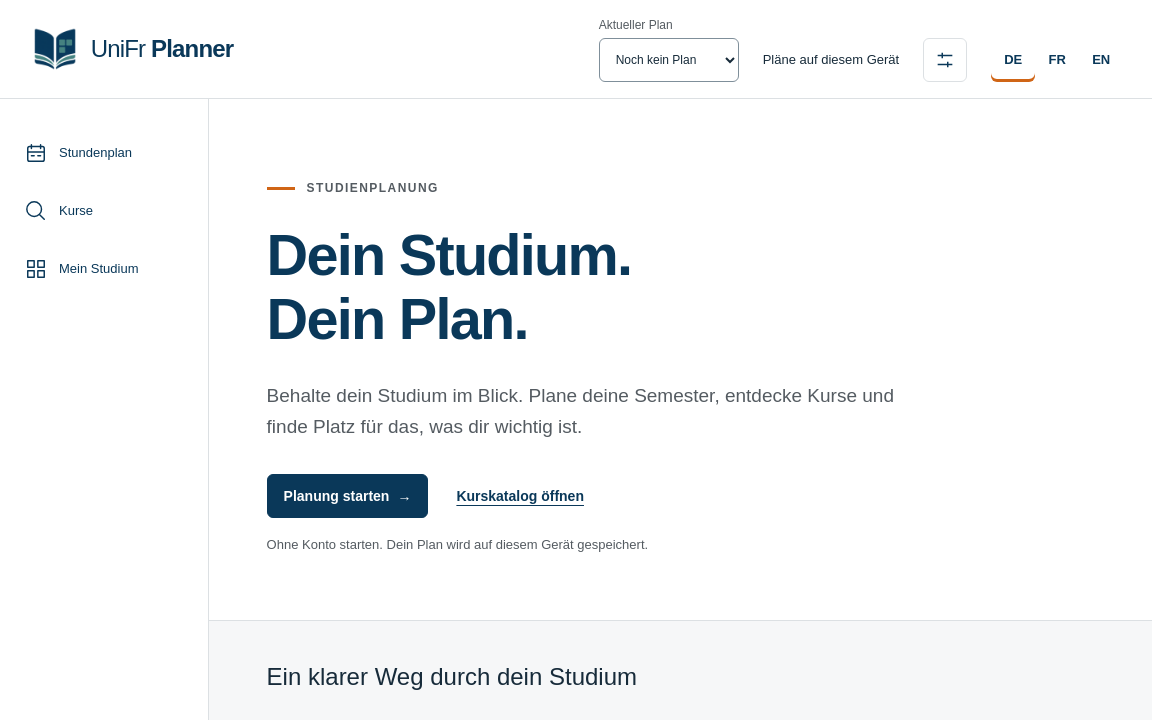
it: application shell › switches and persists French and English, including document language
Click the button with aria-label "Français". click: (1057, 60)
box: [1035,38,1079,82]
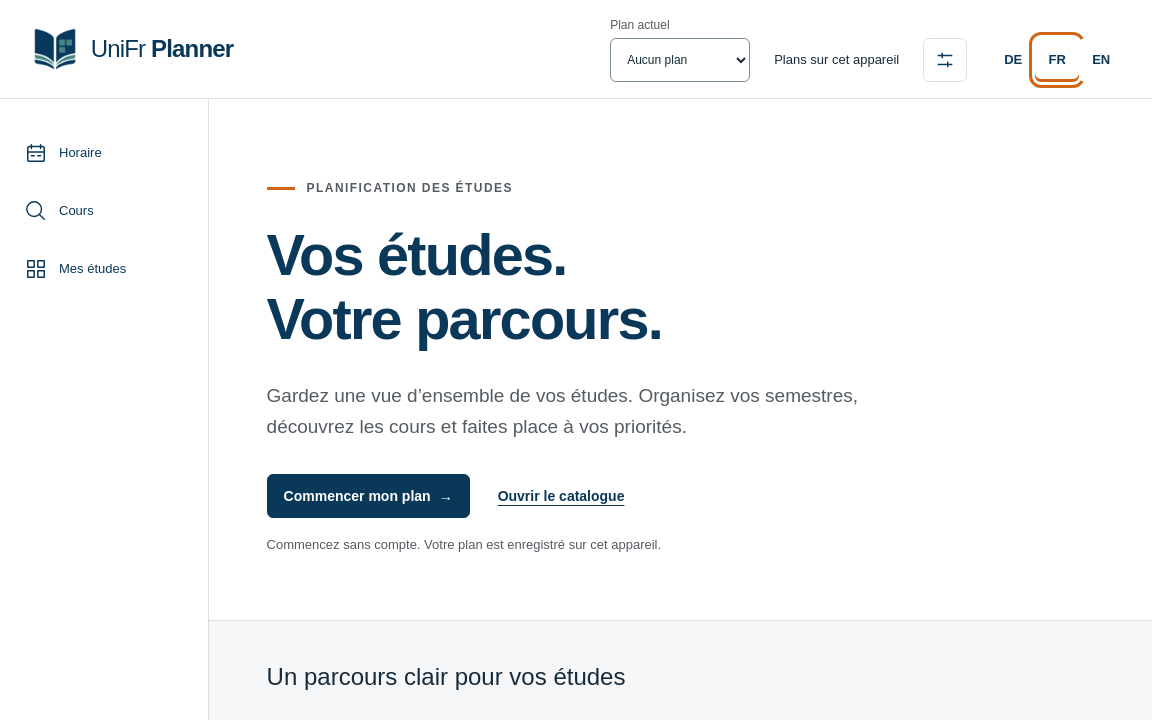
expect the heading "Vos études. Votre parcours." is shown: met, box [267,223,662,351]
Click the button with aria-label "English". click: (1101, 60)
box: [1079,38,1123,82]
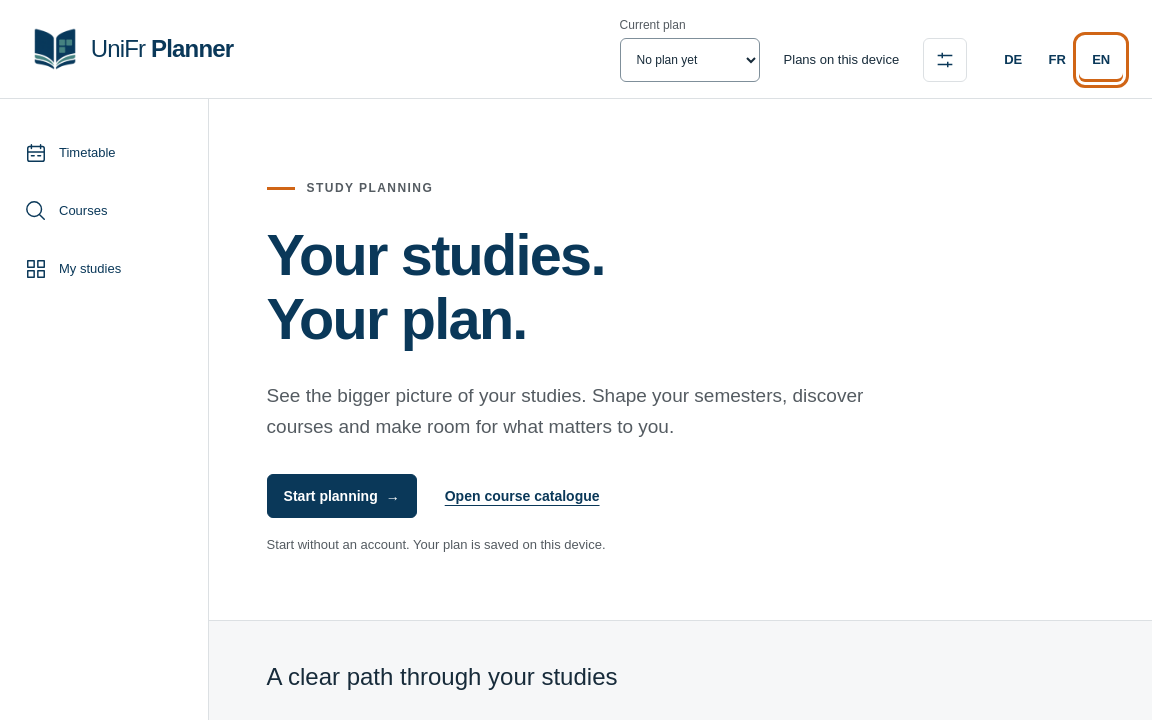
expect the heading "Your studies. Your plan." is shown: met, box [267,223,605,351]
